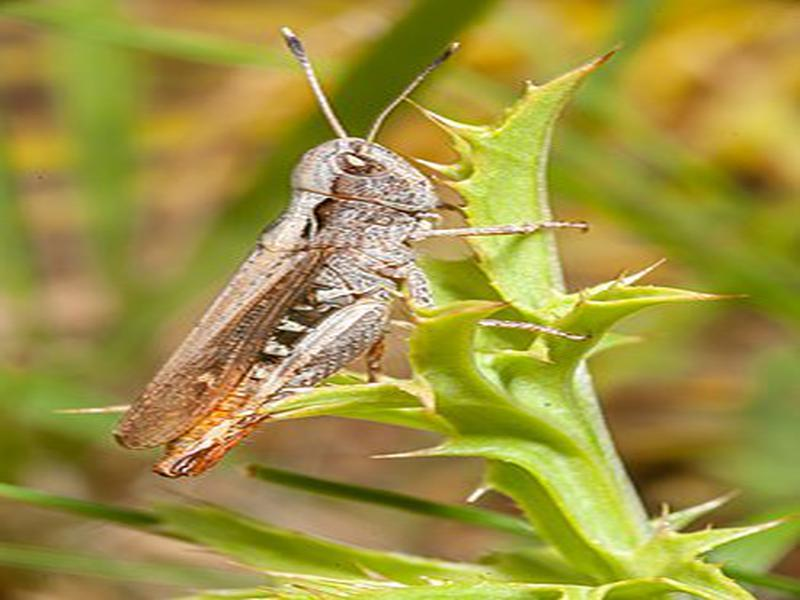Grasshopper: (77, 128, 469, 513)
